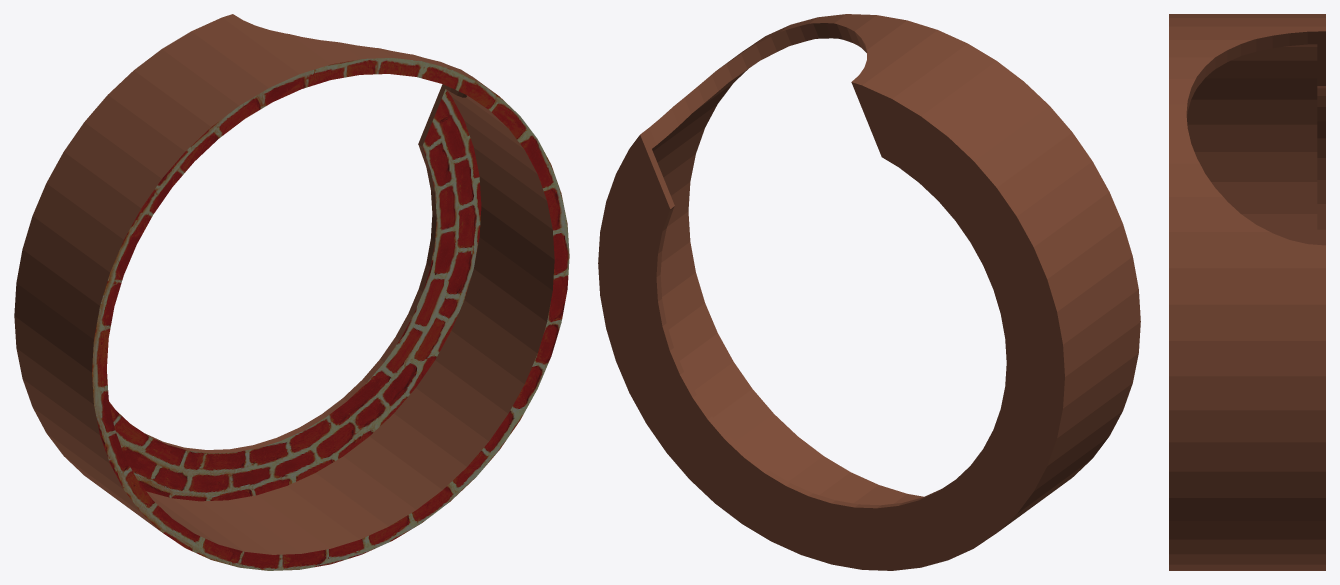
Rendered from pool_040.obj.
The picture shows the model from 3 angles, left to right: view 1: azimuth 30°, elevation 25°; view 2: azimuth 150°, elevation 25°; view 3: azimuth 270°, elevation 25°; orthographic projection. The views are drawn at different scales.
Size of the model in its own units: 32 by 32 by 9.
